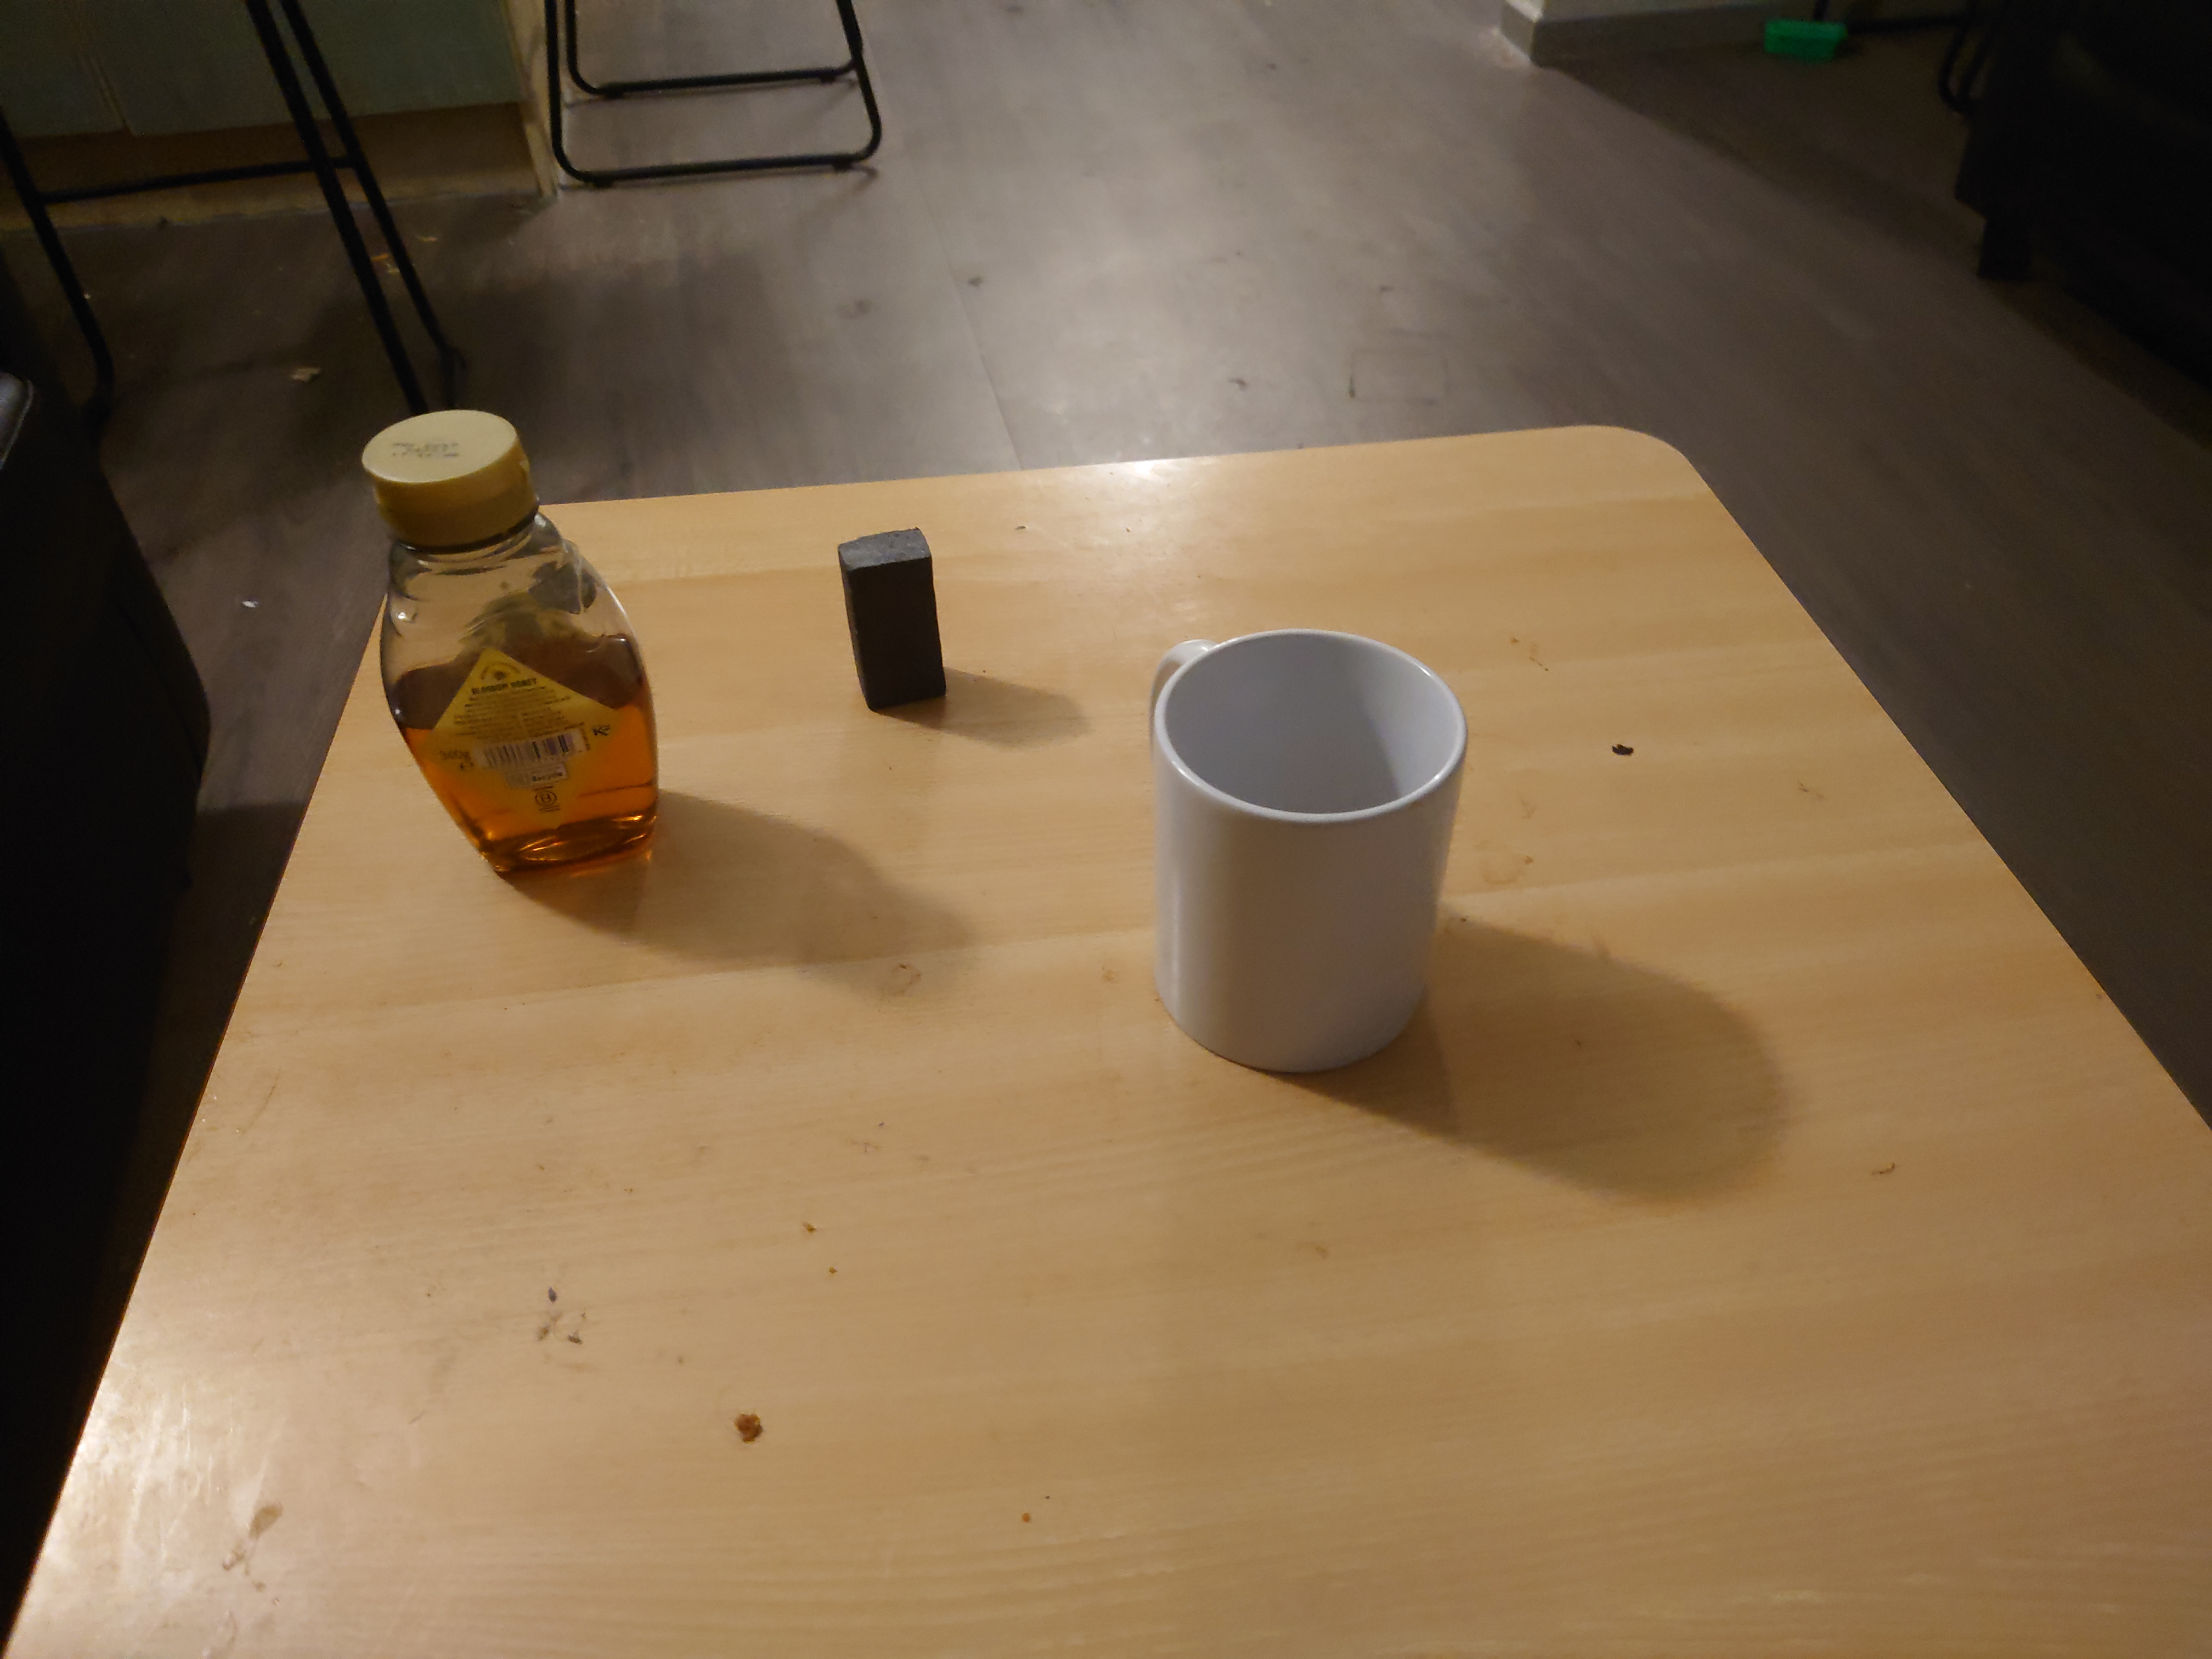cup: (1144, 629, 1472, 1073)
target: (834, 523, 951, 713)
